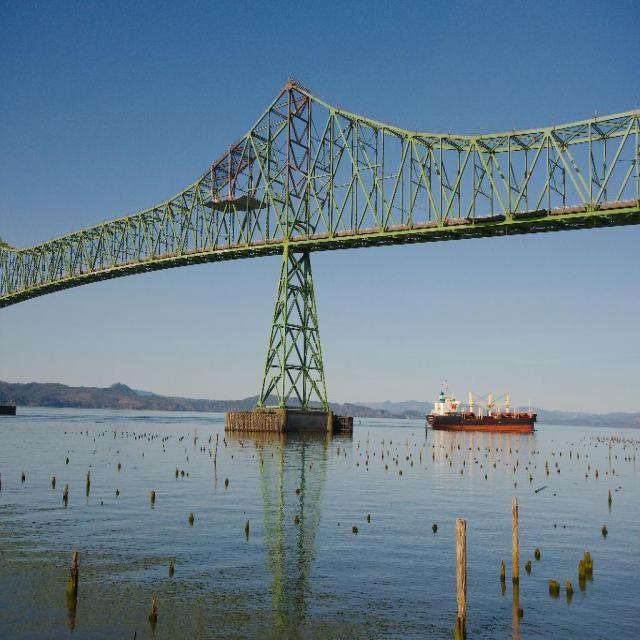Boat: (430, 380, 553, 444)
